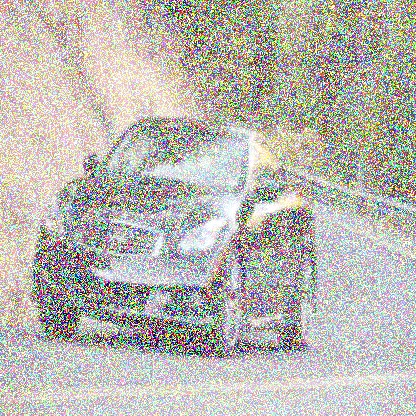Vehicle: (29, 117, 322, 356)
